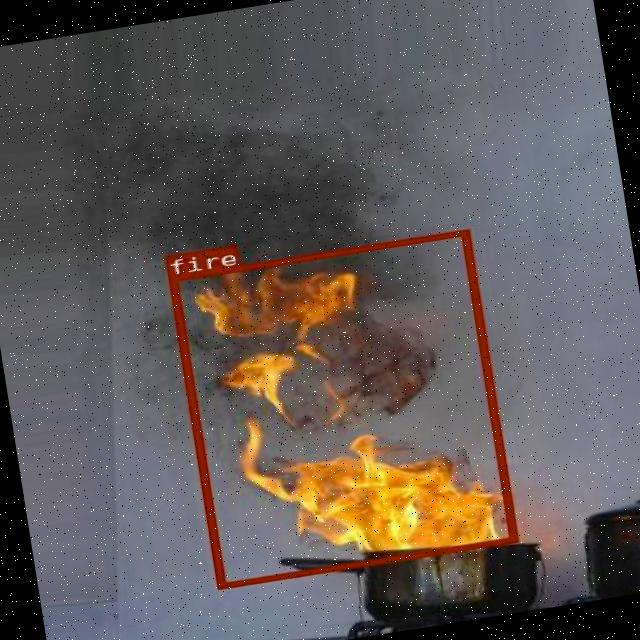fire: (167, 228, 517, 589)
